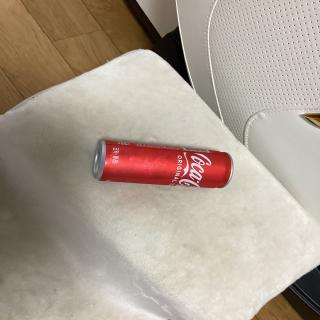cocacola: (83, 132, 235, 194)
